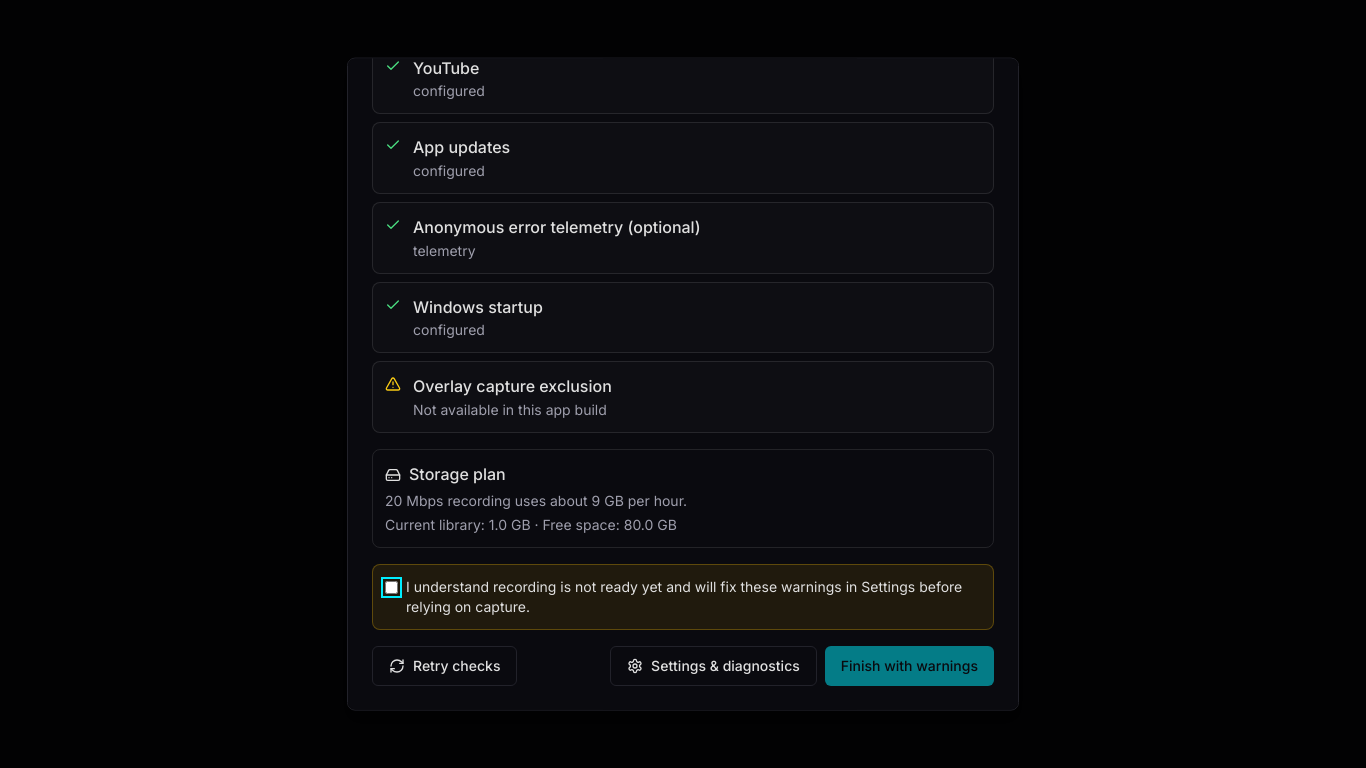
Scenario: OnboardingModal readiness wizard › requires explicit acknowledgement before completing a failing capture check
(page scrolled)
Expected: the button with test id "onboarding-complete" is disabled, [825,646,994,686]
Click the checkbox: (392, 587) [385,581,398,594]
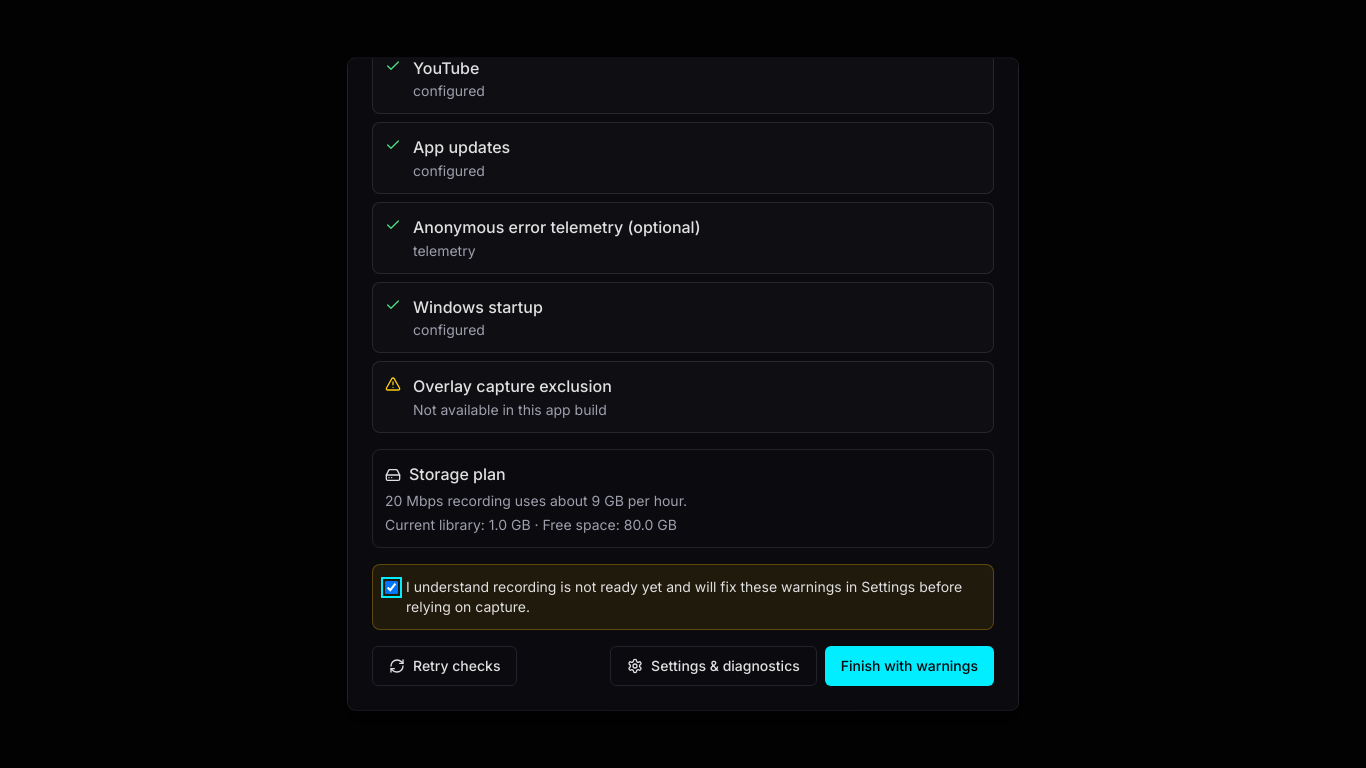
Now the button with test id "onboarding-complete" is enabled, box [825,646,994,686]
